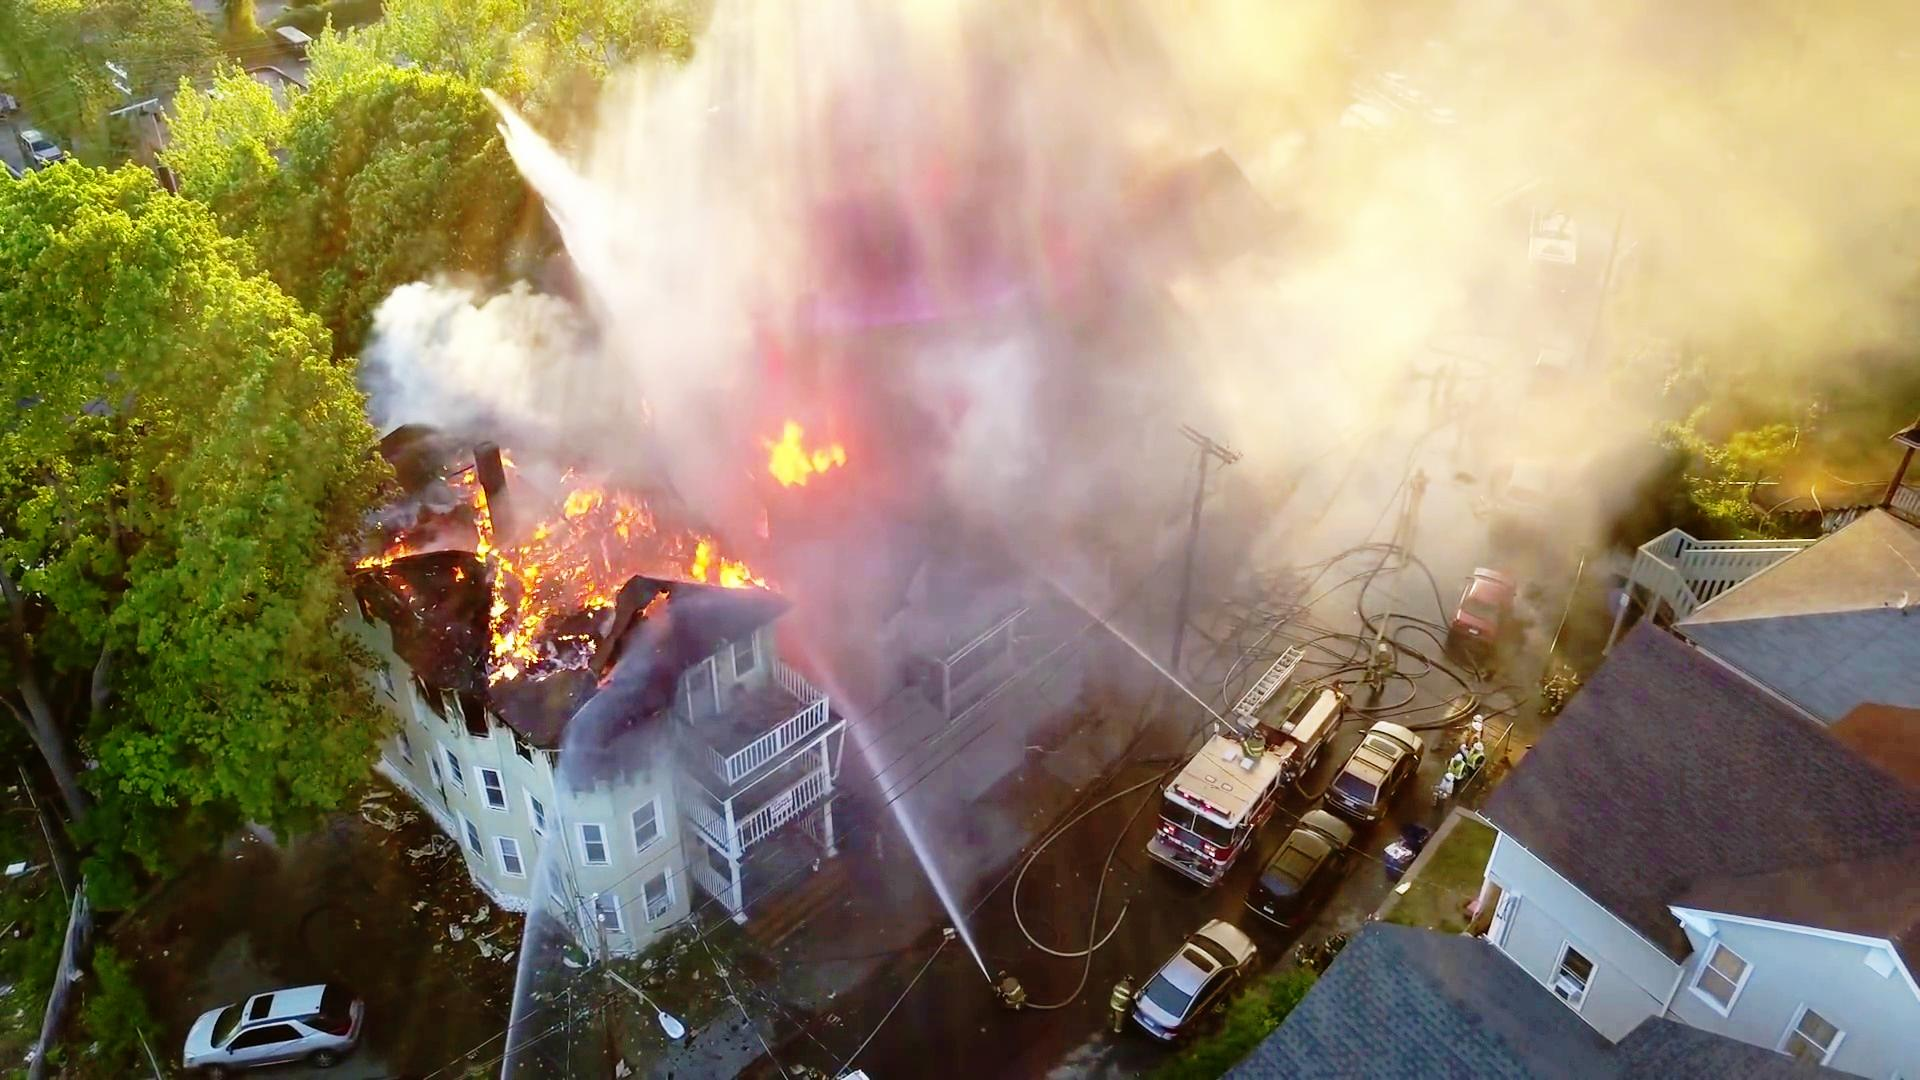fire: (496, 463, 651, 634), (761, 410, 851, 501)
smoke: (708, 18, 1354, 348)
